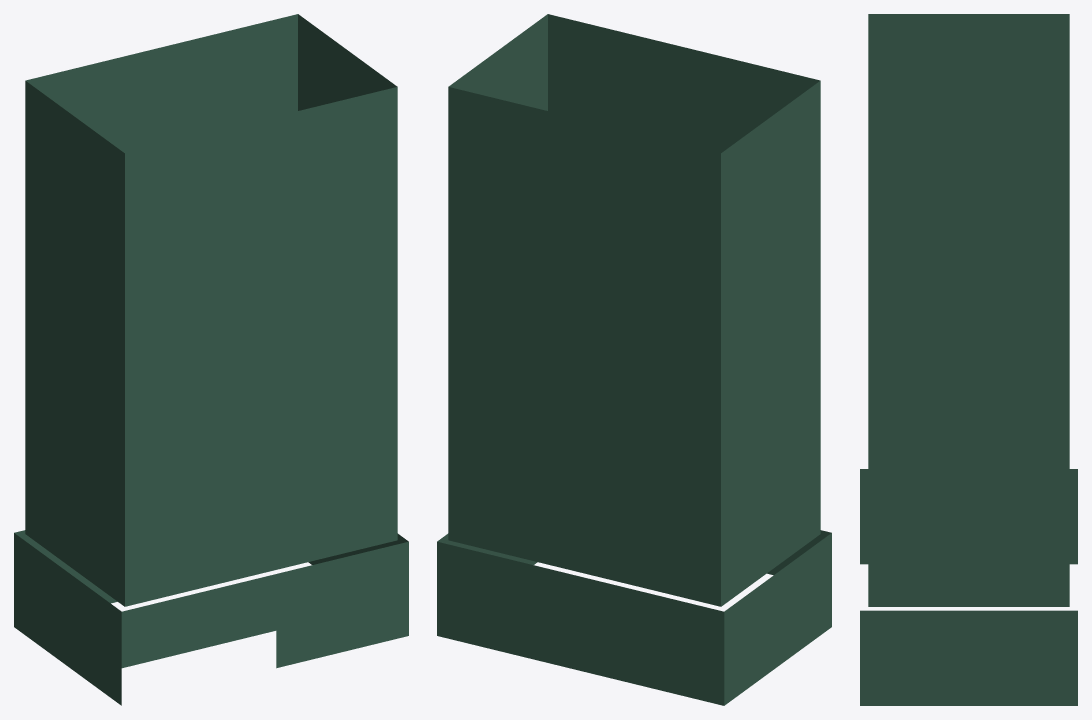
File: 1563-Buildings-shell-pieces-facade-bay-wall-round-an-opening-reveals-sill-head-emitBa.glb
The picture shows the model from 3 angles, left to right: view 1: azimuth 30°, elevation 25°; view 2: azimuth 150°, elevation 25°; view 3: azimuth 270°, elevation 25°; orthographic projection.
Parts seen in each view (by area): view 1: emitBay; view 2: emitBay; view 3: emitBay.
Part boxes in pixels (<box>): emitBay: <box>14,14,408,705</box>; emitBay: <box>437,14,831,705</box>; emitBay: <box>860,14,1077,705</box>.
Bounding box in the file's own units: 40 × 72.93 × 26.
